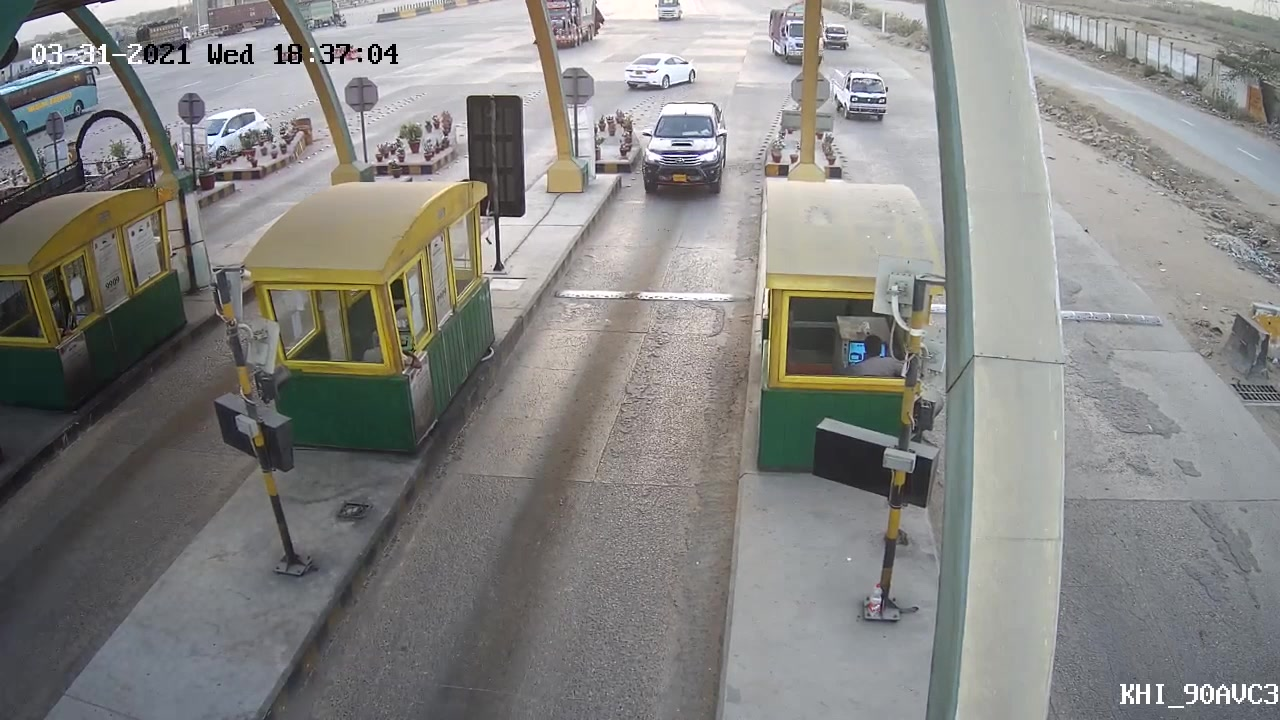F1: (635, 87, 734, 205)
